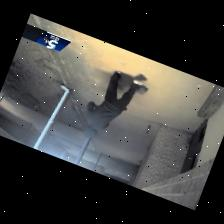person: (84, 70, 142, 136)
